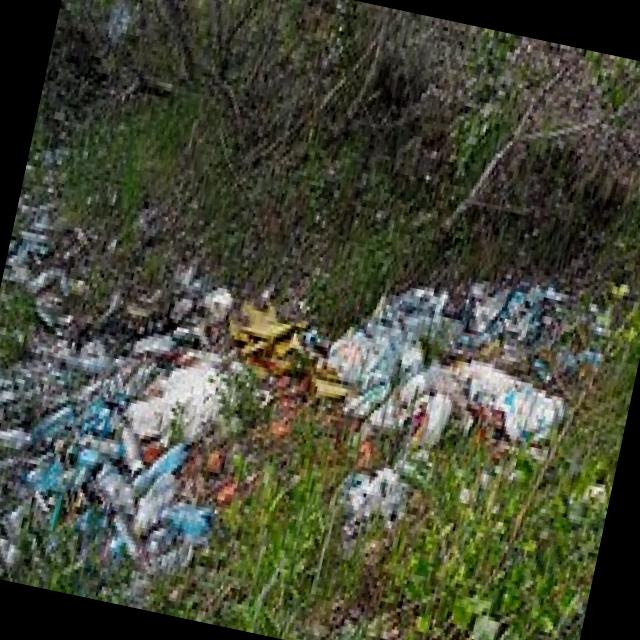garbage: (0, 139, 581, 640)
